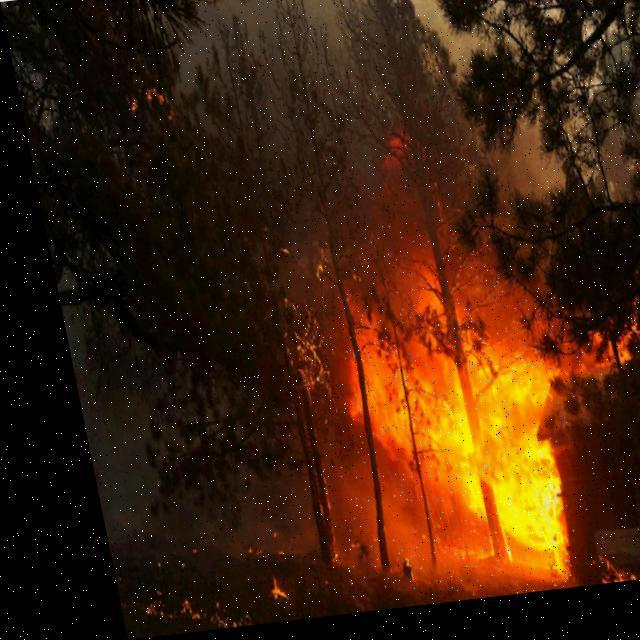Fire: (313, 223, 552, 576)
